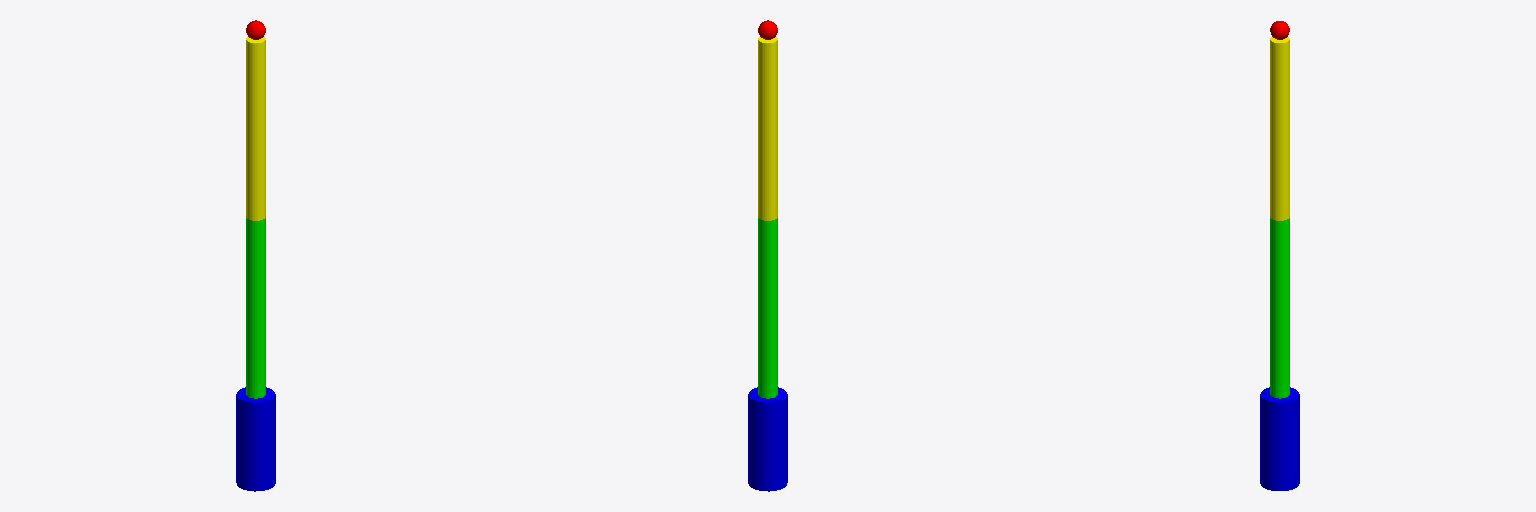
The robot description file, URDF, robot "planar_arm":
<?xml version="1.0"?>
<robot name="planar_arm">

  <!-- MATERIALI GLOBALI -->
  <material name="blue"><color rgba="0 0 1 1"/></material>
  <material name="green"><color rgba="0 1 0 1"/></material>
  <material name="yellow"><color rgba="1 1 0 1"/></material>
  <material name="red"><color rgba="1 0 0 1"/></material>

  <!-- Base -->
  <link name="base_link">
    <visual>
      <origin xyz="0 0 0.25" rpy="0 0 0"/>
      <geometry>
        <cylinder radius="0.1" length="0.5"/>
      </geometry>
      <material name="blue"/>
    </visual>
  </link>

  <!-- Joint 1 -->
  <joint name="joint1" type="revolute">
    <parent link="base_link"/>
    <child link="link1"/>
    <origin xyz="0 0 0.5" rpy="0 0 0"/>
    <axis xyz="0 1 0"/>
    <limit effort="100.0" lower="-3.14" upper="3.14" velocity="1.0"/>
  </joint>

  <!-- Link 1 -->
  <link name="link1">
    <visual>
      <origin xyz="0 0 0.5" rpy="0 0 0"/>
      <geometry>
        <cylinder radius="0.05" length="1.0"/>
      </geometry>
      <material name="green"/>
    </visual>
  </link>

  <!-- Joint 2 -->
  <joint name="joint2" type="revolute">
    <parent link="link1"/>
    <child link="link2"/>
    <origin xyz="0 0 1.0" rpy="0 0 0"/>
    <axis xyz="1 0 0"/>
    <limit effort="100.0" lower="-3.14" upper="3.14" velocity="1.0"/>
  </joint>

  <!-- Link 2 -->
  <link name="link2">
    <visual>
      <origin xyz="0 0 0.5" rpy="0 0 0"/>
      <geometry>
        <cylinder radius="0.05" length="1.0"/>
      </geometry>
      <material name="yellow"/>
    </visual>
  </link>

  <!-- Joint 3 -->
  <joint name="joint3" type="fixed">
    <parent link="link2"/>
    <child link="end_effector"/>
    <origin xyz="0 0 1.0" rpy="0 0 0"/>
  </joint>

  <!-- End Effector -->
  <link name="end_effector">
    <visual>
      <origin xyz="0 0 0.05" rpy="0 0 0"/>
      <geometry>
        <sphere radius="0.05"/>
      </geometry>
      <material name="red"/>
    </visual>
  </link>

</robot>

--- Render facts (derived) ---
3 views of the same robot in one strip: view 1: azimuth 30°, elevation 25°; view 2: azimuth 150°, elevation 25°; view 3: azimuth 270°, elevation 25° (orthographic).
Robot: planar_arm — 4 links, 3 joints (2 revolute, 1 fixed); root link base_link; default pose: all joints at 0.
Links seen in each view (by area): view 1: base_link, link2, link1; view 2: base_link, link2, link1; view 3: base_link, link2, link1.
Link boxes in pixels (box(x1,y1,x2,y2)): base_link: box(236, 387, 275, 491); link2: box(246, 37, 265, 220); link1: box(246, 218, 265, 398); base_link: box(748, 387, 787, 491); link2: box(758, 37, 777, 220); link1: box(758, 218, 777, 398); base_link: box(1260, 387, 1299, 490); link2: box(1270, 37, 1289, 220); link1: box(1270, 218, 1289, 398).
Size in the robot's own frame: 0.2 by 0.2 by 2.6 metres.
Geometry: primitives only (box / cylinder / sphere), no mesh files.